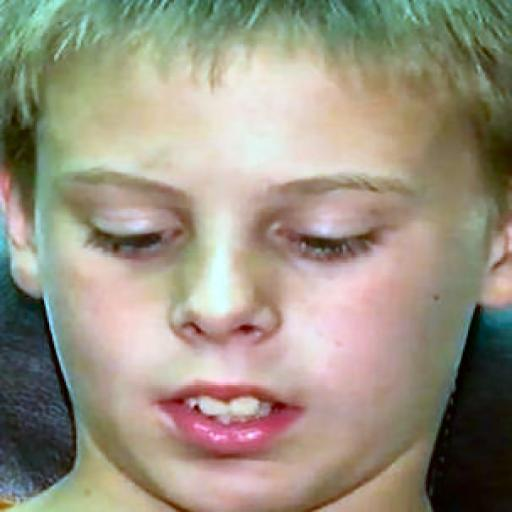Autism: (7, 7, 512, 512)
